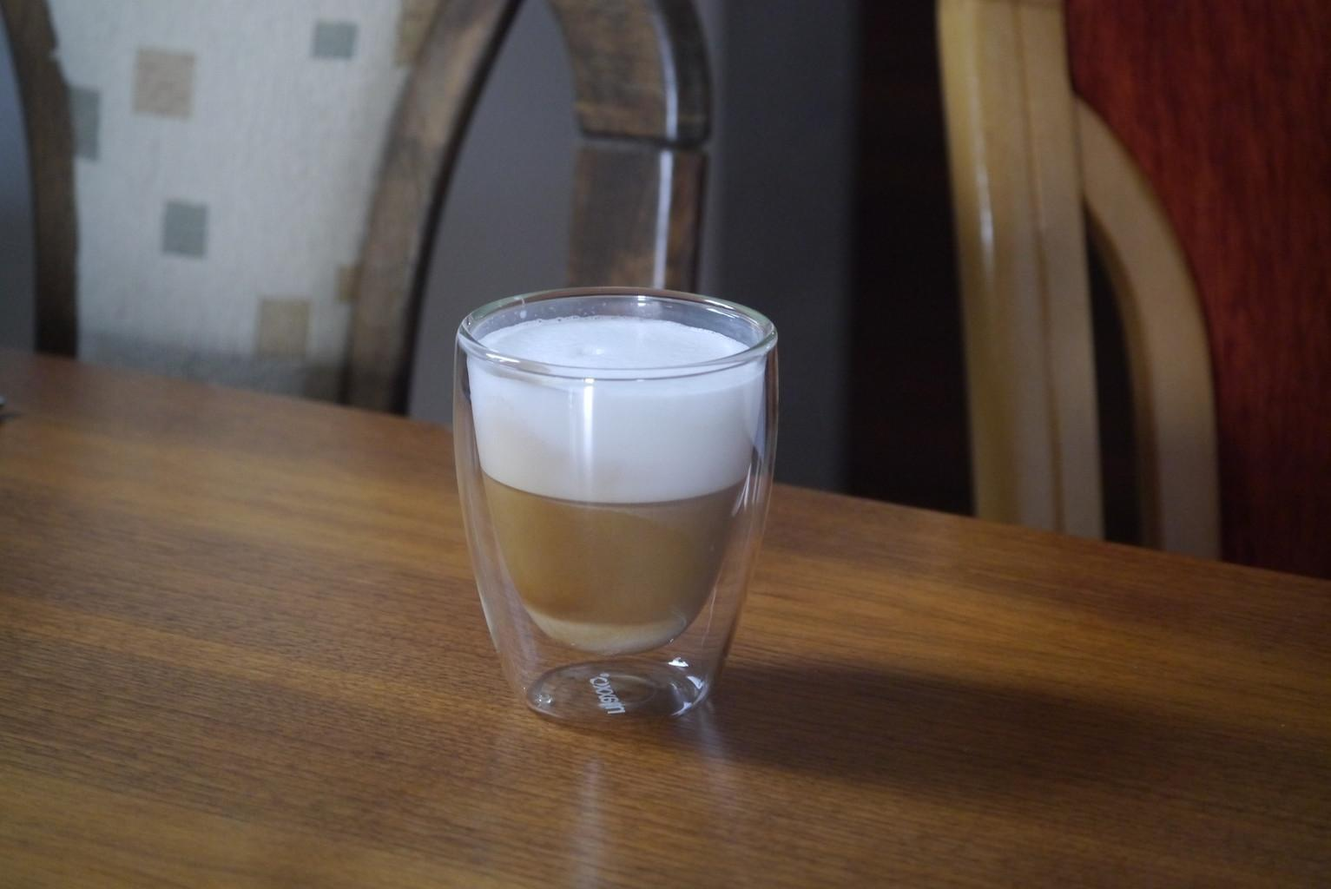glass-normal: (446, 284, 788, 723)
